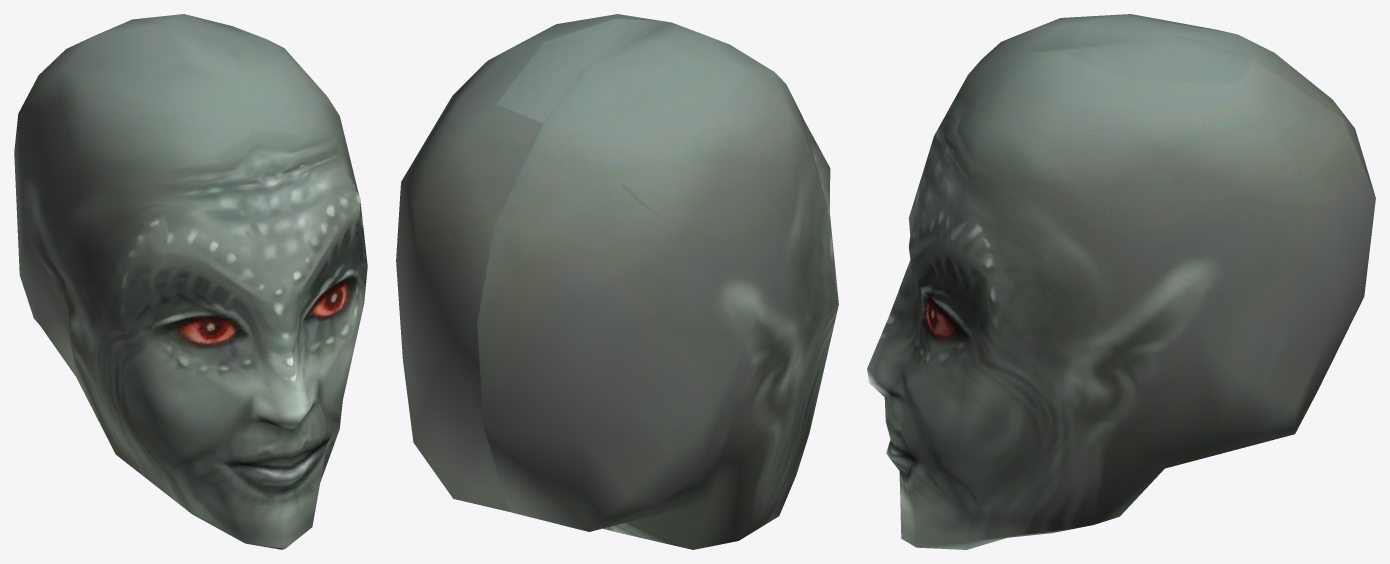
File: b_n_dark elf_f_head_10.glb
3 views of the same model, side by side, from view 1: azimuth 30°, elevation 25°; view 2: azimuth 150°, elevation 25°; view 3: azimuth 270°, elevation 25° (orthographic). The views are drawn at different scales.
Visible parts, largest first — view 1: Tri B_N_Dark Elf_F_Head_10; view 2: Tri B_N_Dark Elf_F_Head_10; view 3: Tri B_N_Dark Elf_F_Head_10.
Boxes of the visible parts, x1=… form: Tri B_N_Dark Elf_F_Head_10: x1=14, y1=14, x2=367, y2=549; Tri B_N_Dark Elf_F_Head_10: x1=396, y1=14, x2=838, y2=549; Tri B_N_Dark Elf_F_Head_10: x1=867, y1=14, x2=1375, y2=549.
Size of the model in its own units: 0.0969 by 0.1523 by 0.1389.
1 material, 1 textured.
